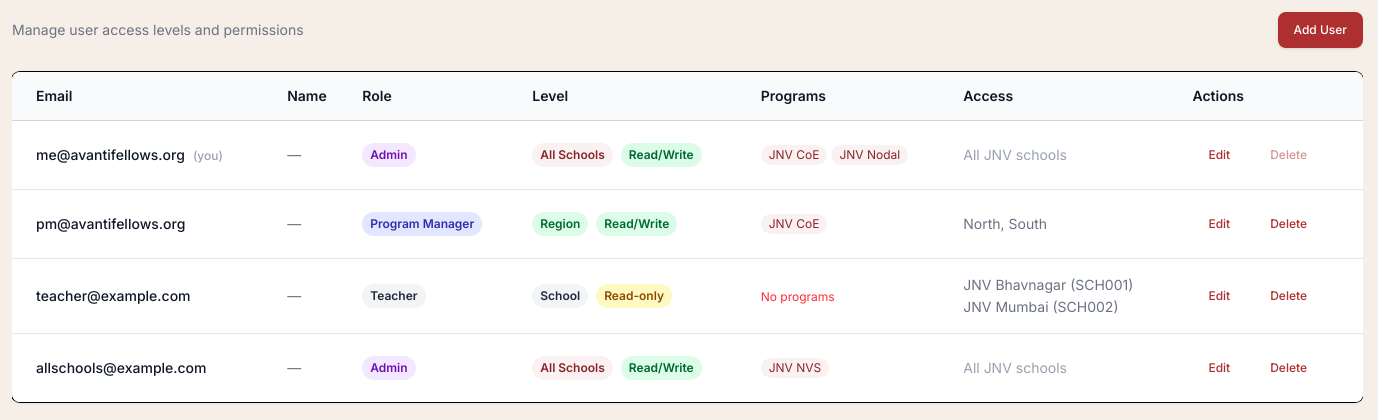
it: UserList › delete user › deletes user after confirmation and removes from list
expect the text "pm@avantifellows.org" is shown: met, box [12,190,275,258]
Click the button "Delete" in the row of "pm@avantifellows.org" at (1289, 224), box [1254,206,1323,242]
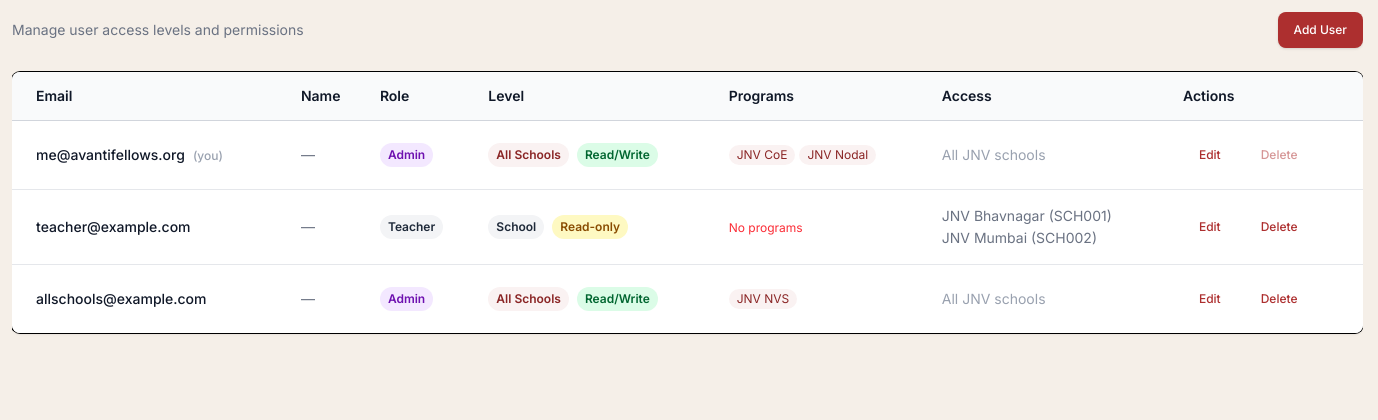
expect the text "pm@avantifellows.org" is gone: met
